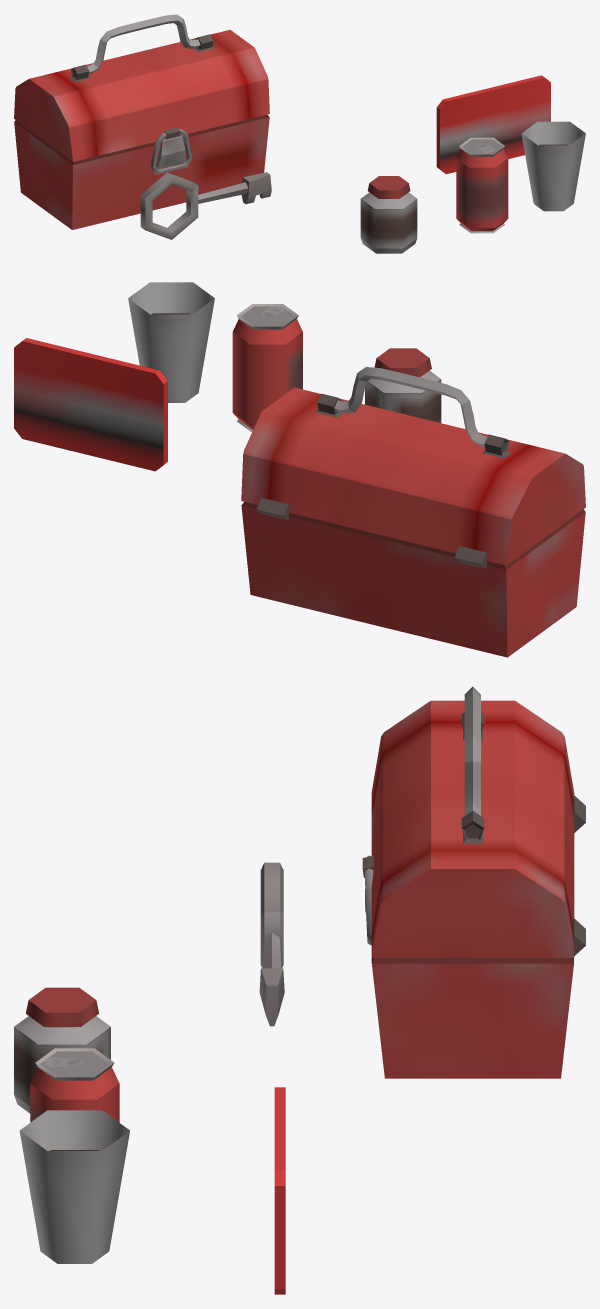
File: DeathFloorUtilItems.fbx
3 views of the same model, one above another, from view 1: azimuth 30°, elevation 25°; view 2: azimuth 150°, elevation 25°; view 3: azimuth 270°, elevation 25° (orthographic). The views are drawn at different scales.
Visible parts, largest first — view 1: Toolbox, KeyCard, Soda, CoffeCup, Pills, Key, ToolboxHandle; view 2: Toolbox, KeyCard, CoffeCup, Soda, Pills, ToolboxHandle; view 3: Toolbox, CoffeCup, Pills, Soda, Key, KeyCard, ToolboxHandle.
Boxes of the visible parts, x1,y1,x2,y2 form: Toolbox: [14, 30, 269, 229]; KeyCard: [436, 75, 550, 174]; Soda: [456, 137, 508, 233]; CoffeCup: [521, 121, 585, 211]; Pills: [360, 176, 417, 253]; Key: [140, 172, 271, 239]; ToolboxHandle: [87, 14, 200, 74]; Toolbox: [241, 387, 585, 657]; KeyCard: [14, 338, 167, 471]; CoffeCup: [128, 282, 214, 402]; Soda: [232, 304, 302, 432]; Pills: [365, 348, 441, 422]; ToolboxHandle: [334, 367, 487, 447]; Toolbox: [362, 700, 585, 1078]; CoffeCup: [19, 1110, 129, 1263]; Pills: [14, 987, 110, 1113]; Soda: [30, 1048, 119, 1122]; Key: [259, 862, 284, 1026]; KeyCard: [274, 1087, 285, 1294]; ToolboxHandle: [464, 686, 480, 815].
Bounding box in the file's own units: 1.38 × 0.5073 × 0.8842.
